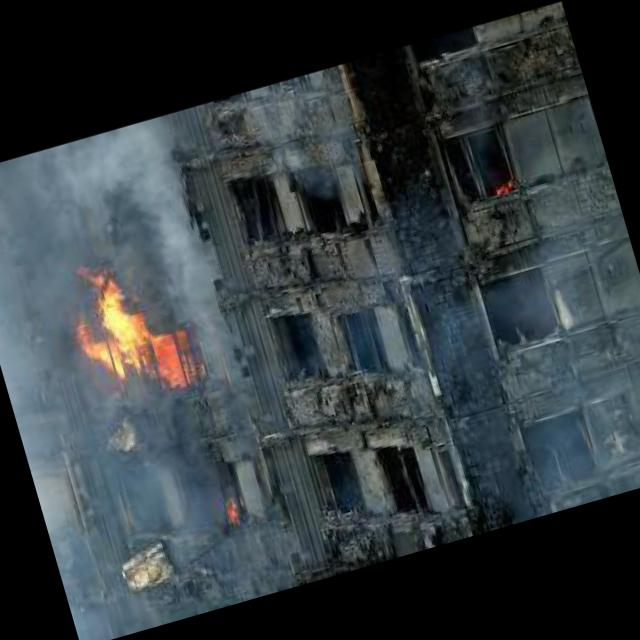fire: (58, 254, 200, 426)
smoke: (0, 114, 211, 307)
